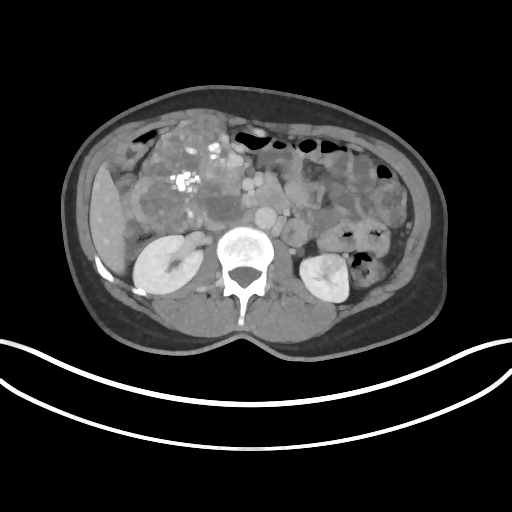Lesion: (318, 255, 346, 274)
